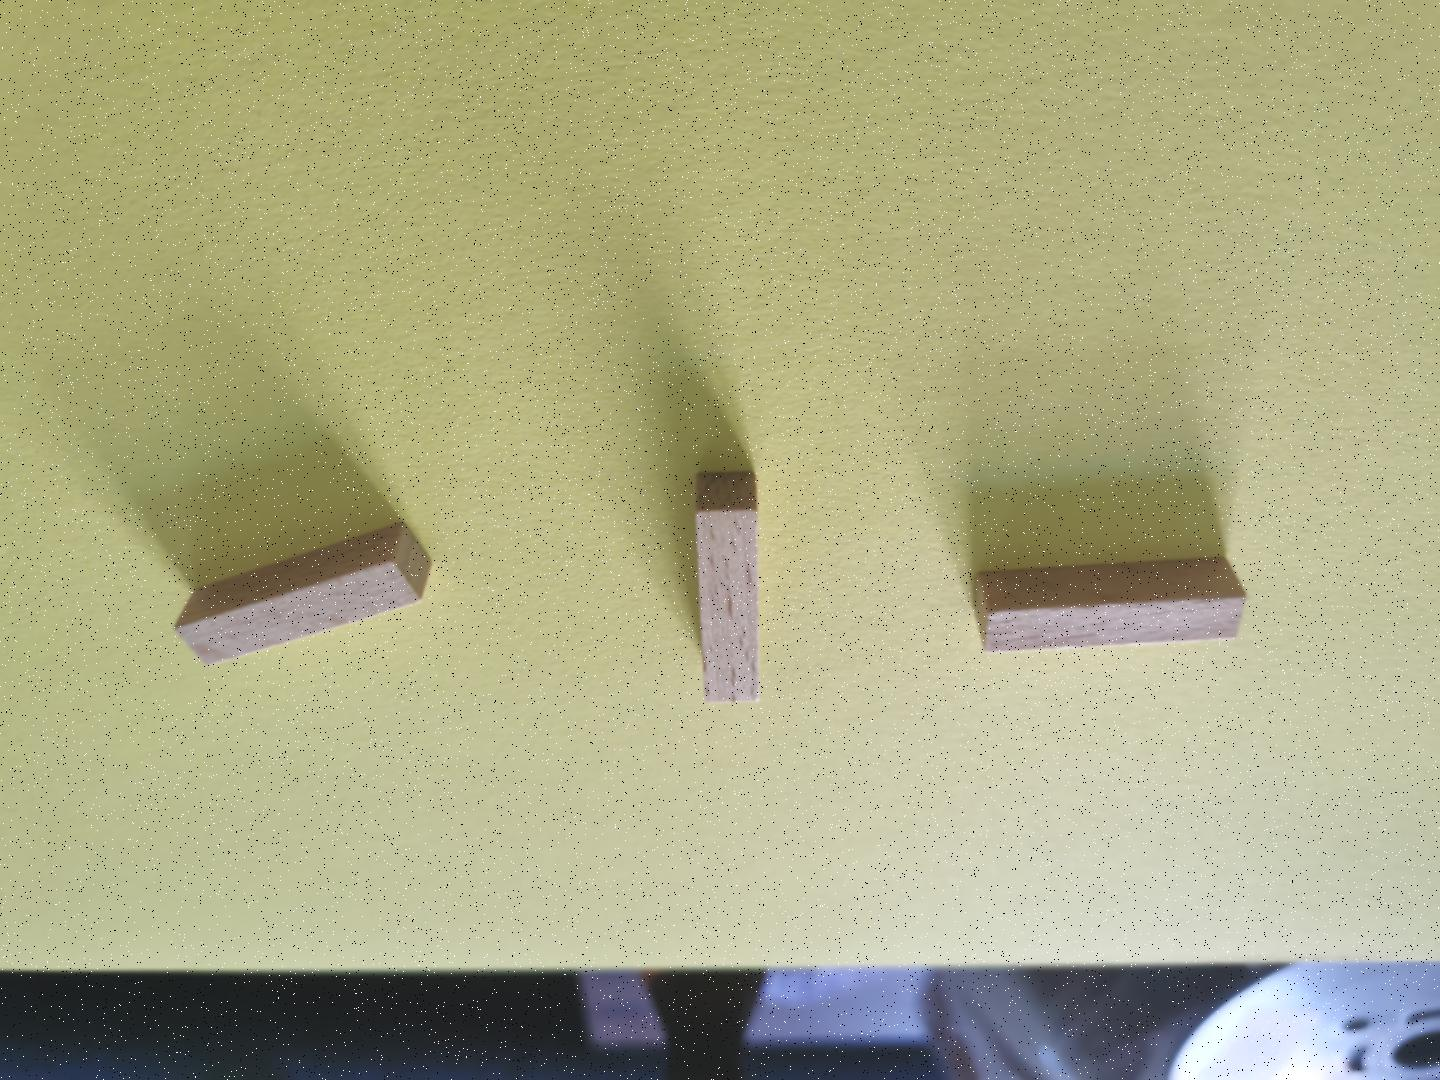jenga: (175, 523, 431, 664), (973, 557, 1246, 652), (695, 472, 760, 703)
